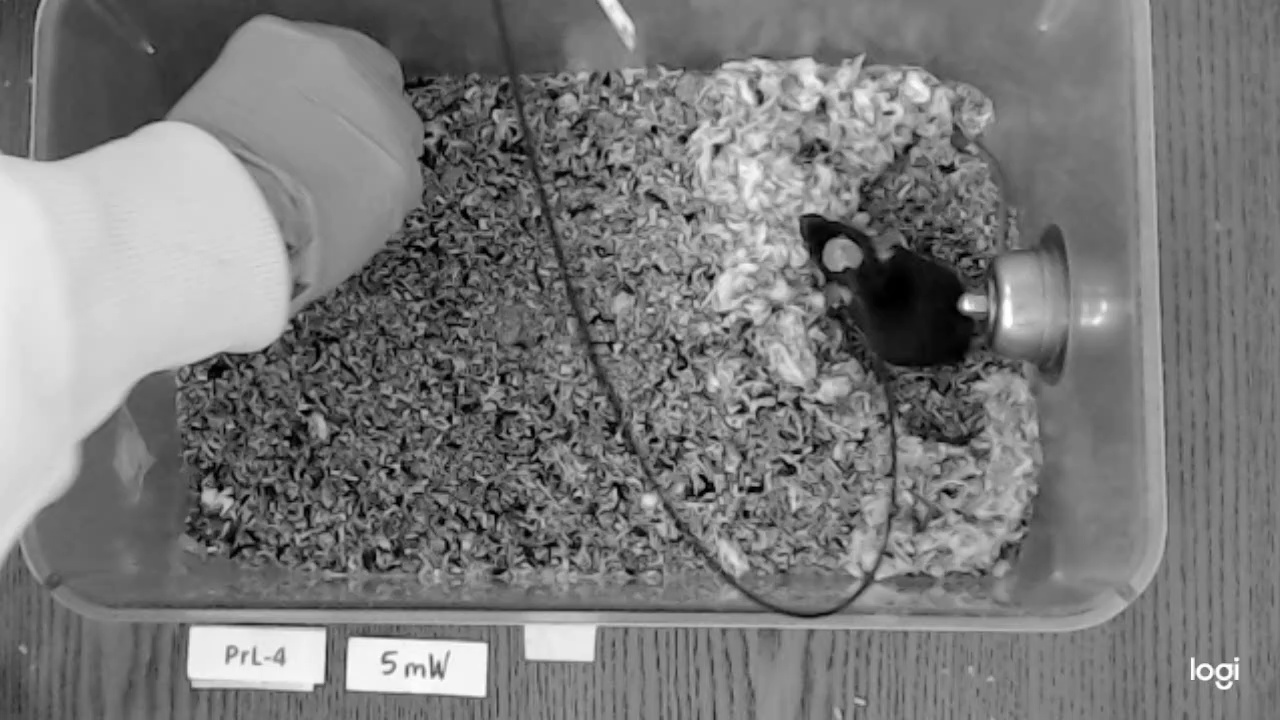parent-mice: (799, 212, 973, 365)
